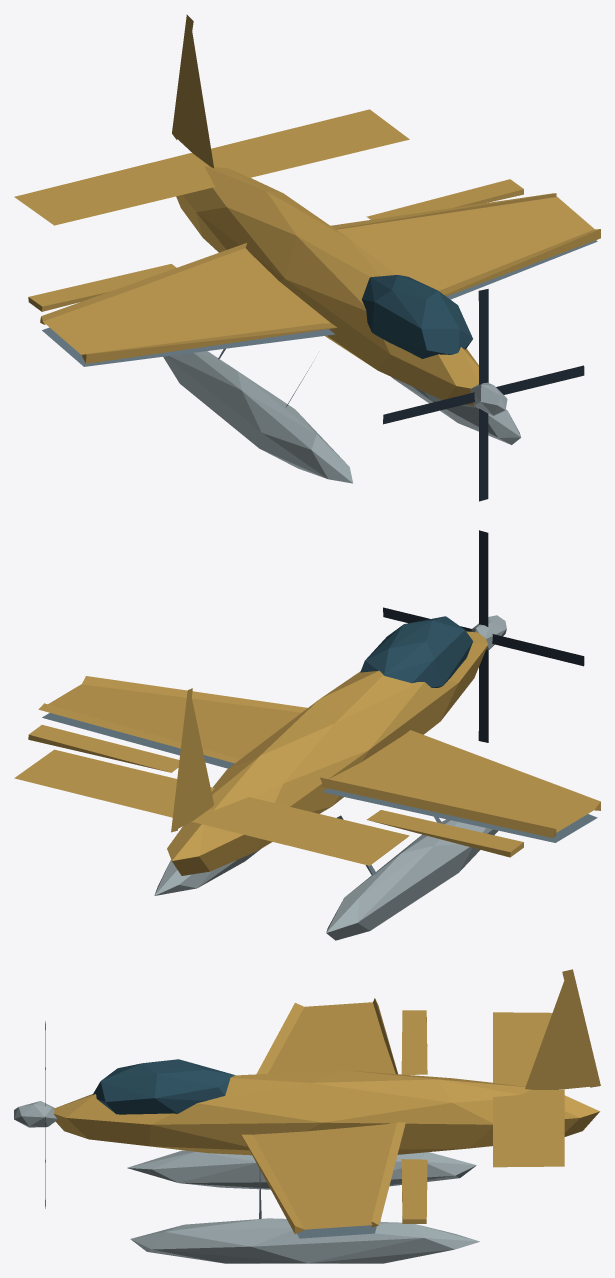
File: aircraft-seaplane.lod2.glb
The picture shows the model from 3 angles, top to bottom: view 1: azimuth 30°, elevation 25°; view 2: azimuth 150°, elevation 25°; view 3: azimuth 270°, elevation 25°; orthographic projection. The views are drawn at different scales.
Parts seen in each view (by area): view 1: aircraft-seaplane__body, aircraft-seaplane__propeller_0, aircraft-seaplane__aileron_-1, aircraft-seaplane__aileron_1; view 2: aircraft-seaplane__body, aircraft-seaplane__propeller_0, aircraft-seaplane__aileron_1, aircraft-seaplane__aileron_-1; view 3: aircraft-seaplane__body, aircraft-seaplane__aileron_1, aircraft-seaplane__aileron_-1, aircraft-seaplane__propeller_0.
Part boxes in pixels (x1,y1,x2,y2): aircraft-seaplane__body: [14, 14, 600, 483]; aircraft-seaplane__propeller_0: [383, 289, 584, 501]; aircraft-seaplane__aileron_-1: [28, 264, 176, 311]; aircraft-seaplane__aileron_1: [366, 179, 523, 219]; aircraft-seaplane__body: [14, 616, 600, 940]; aircraft-seaplane__propeller_0: [383, 530, 584, 742]; aircraft-seaplane__aileron_1: [28, 725, 179, 772]; aircraft-seaplane__aileron_-1: [366, 810, 523, 857]; aircraft-seaplane__body: [53, 969, 600, 1263]; aircraft-seaplane__aileron_1: [401, 1159, 427, 1223]; aircraft-seaplane__aileron_-1: [401, 1010, 427, 1074]; aircraft-seaplane__propeller_0: [14, 1021, 57, 1208].
Bounding box in the file's own units: 6.67 × 3.56 × 7.4.
